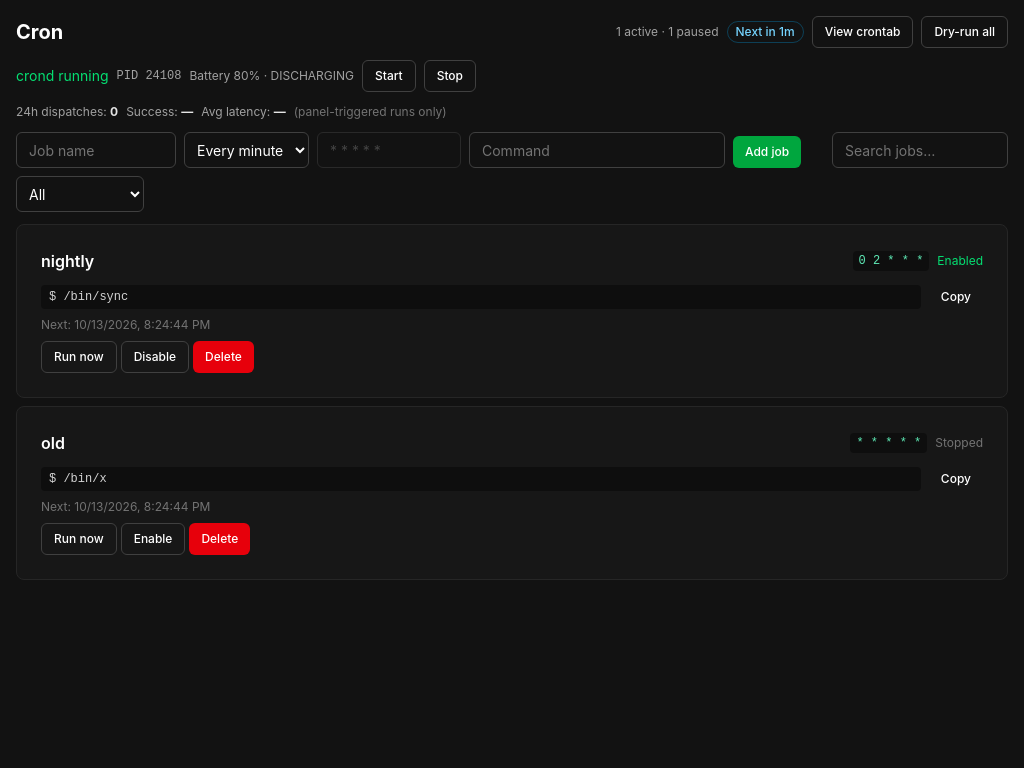
Test: web cron page › dry-runs all jobs and runs one now
This screenshot has width=1024, height=768.
Click the button "Dry-run all" at (965, 32), box x1=921 y1=16 x2=1008 y2=48
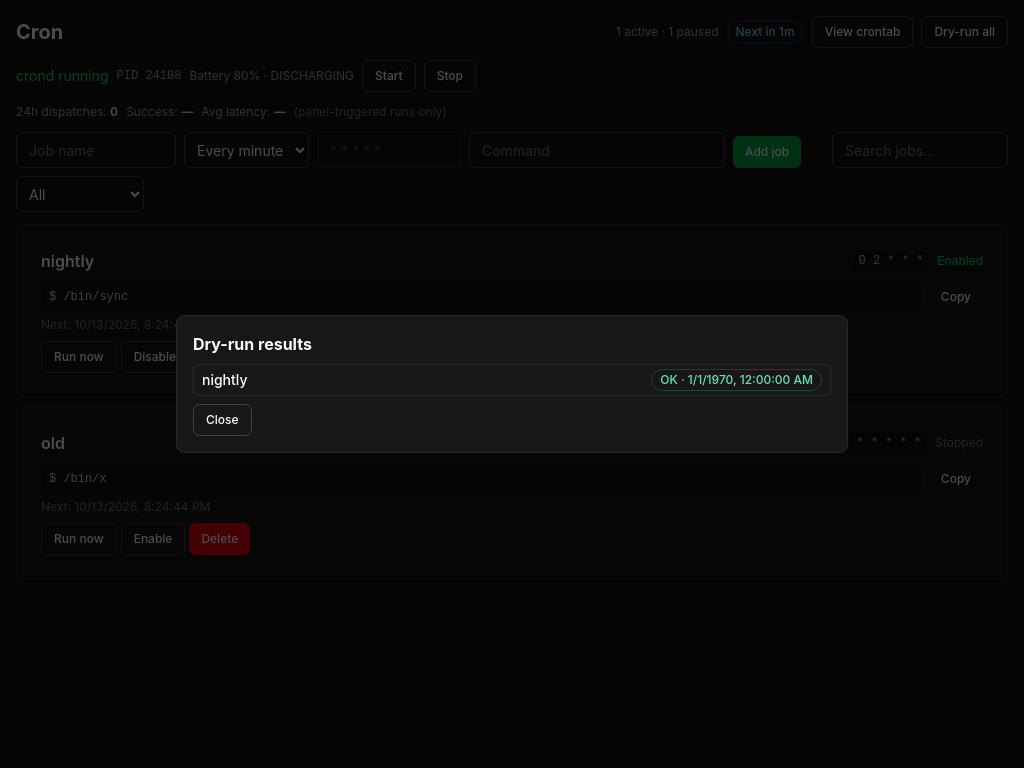
Result: the heading "Dry-run results" is shown at x1=193 y1=334 x2=312 y2=354
Click the button "Close" at (222, 420), box x1=193 y1=404 x2=252 y2=436
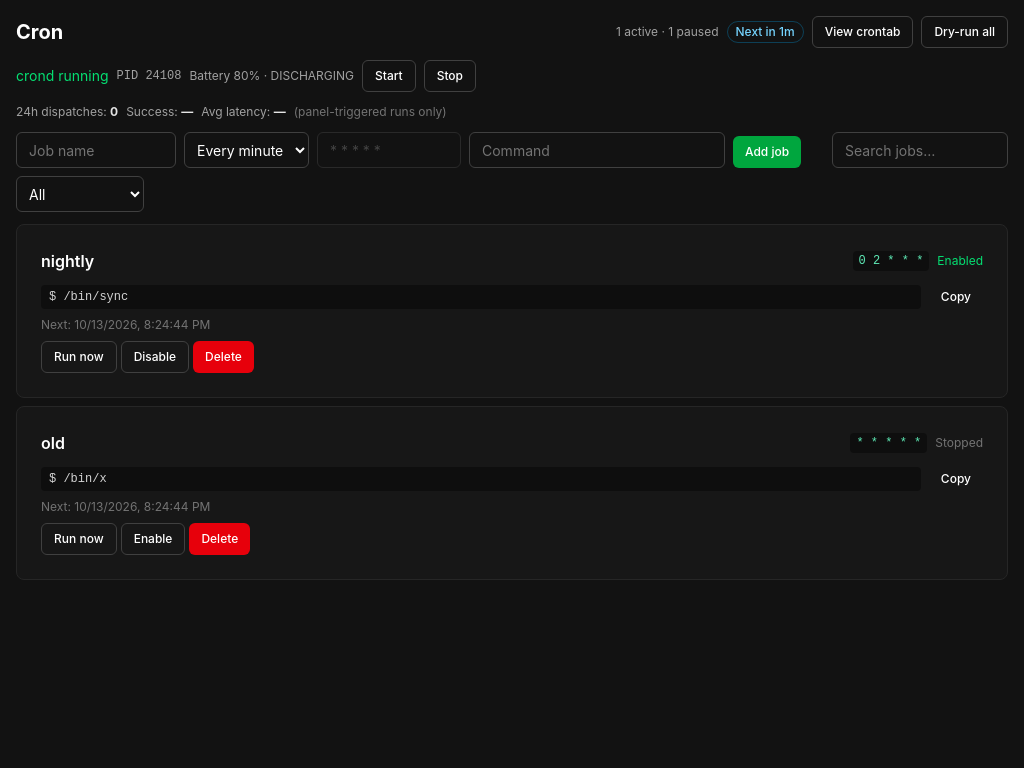
Click the button "Run now" below "/bin/sync" at (79, 357), box x1=41 y1=341 x2=117 y2=373
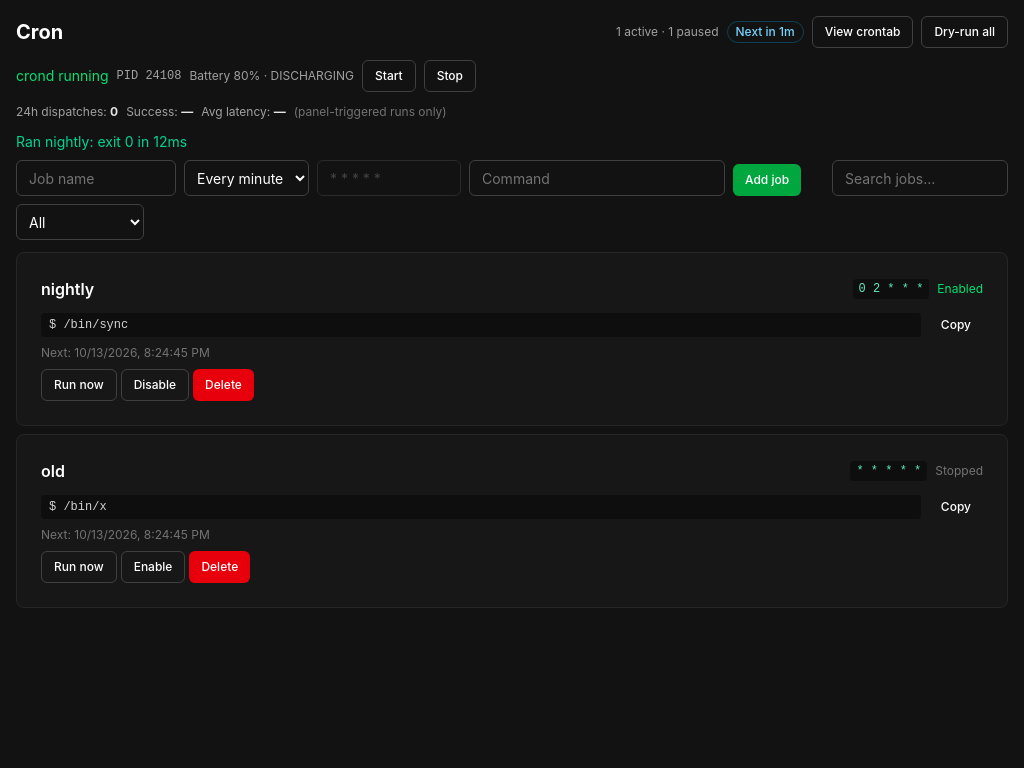
Result: the text "Ran nightly: exit 0 in 12ms" is shown at x1=16 y1=133 x2=187 y2=150
